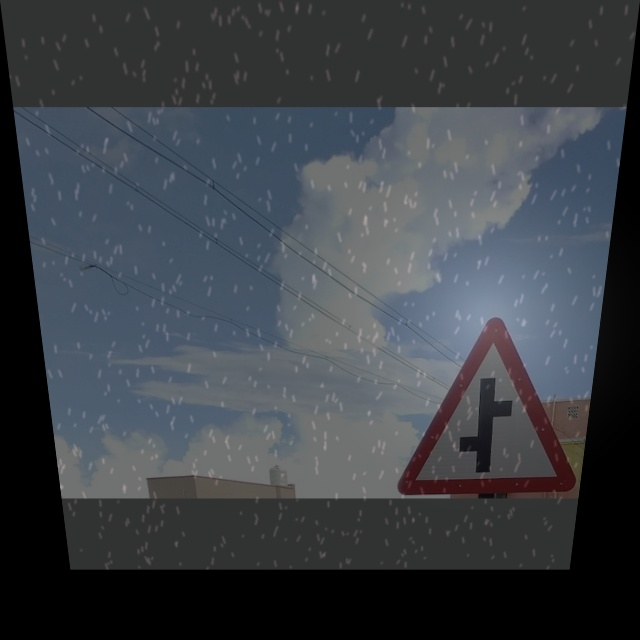Staggered_Intersection: (386, 318, 591, 489)
